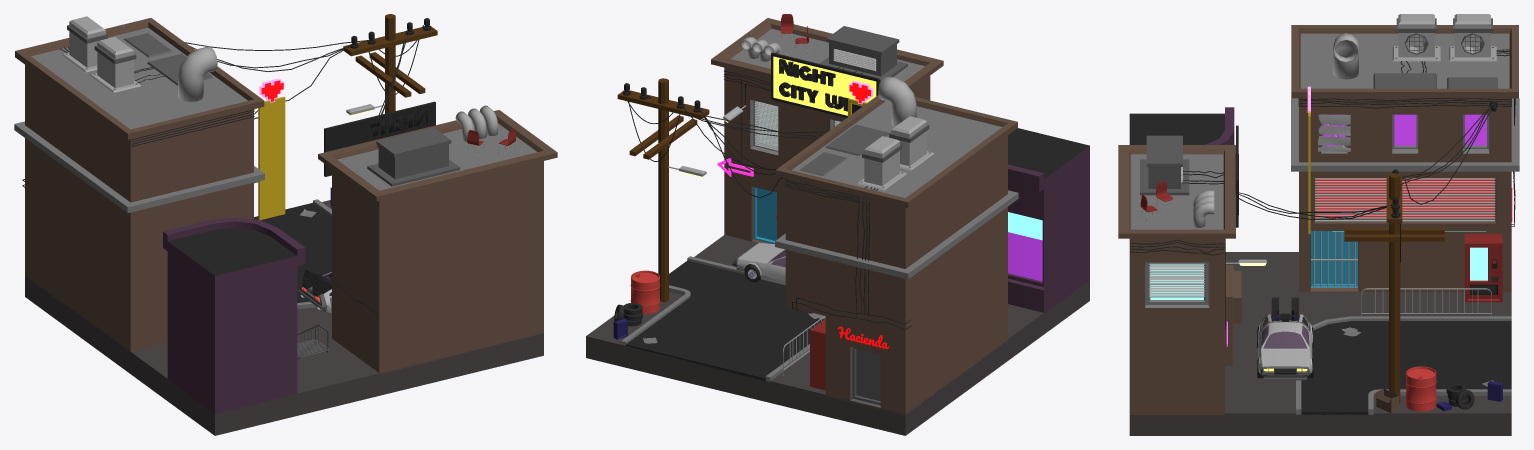
The model's file is diorama_of_cyberpunk_city.glb.
The picture shows the model from 3 angles, left to right: view 1: azimuth 30°, elevation 25°; view 2: azimuth 150°, elevation 25°; view 3: azimuth 270°, elevation 25°; orthographic projection. The views are drawn at different scales.
Visible parts, largest first — view 1: Cube.001_1, Cube_4, Cube.002_5, Plane_0, Cube.006_24, Plane.011_34, Plane.001_2, Cylinder_9, Plane.012_36, Vert.010_42, Cube.005_19, Cube.004_16 (+3 smaller); view 2: Cube.001_1, Cube_4, Plane_0, Cube.002_5, Plane.001_2, Cylinder_9, Vert.010_42, Plane.012_36, Cube.006_24, Cube.004_16, car.008_45, Cube.005_19 (+8 smaller); view 3: Cube.001_1, Cube_4, Plane_0, Plane.001_2, Vert.008_30, Cylinder_9, Vert.010_42, car.008_45, Cube.002_5, Cube.022_47, Cube.006_24, Vert.007_28 (+11 smaller).
Boxes of the visible parts, x1,y1,x2,y2 form: Cube.001_1: (14, 18, 264, 351); Cube_4: (318, 110, 557, 374); Cube.002_5: (163, 217, 305, 414); Plane_0: (25, 200, 543, 435); Cube.006_24: (367, 127, 460, 186); Plane.011_34: (254, 96, 285, 220); Plane.001_2: (254, 203, 331, 302); Cylinder_9: (343, 14, 437, 113); Plane.012_36: (324, 101, 435, 176); Vert.010_42: (22, 25, 423, 313); Cube.005_19: (90, 37, 140, 92); Cube.004_16: (62, 16, 108, 72); Cube.001_1: (775, 95, 1018, 415); Cube_4: (711, 18, 943, 243); Plane_0: (586, 235, 1089, 435); Cube.002_5: (1008, 128, 1089, 313); Plane.001_2: (626, 260, 824, 381); Cylinder_9: (617, 78, 709, 302); Vert.010_42: (625, 67, 911, 329); Plane.012_36: (771, 52, 879, 117); Cube.006_24: (819, 26, 907, 82); Cube.004_16: (857, 136, 906, 190); car.008_45: (732, 242, 785, 285); Cube.005_19: (889, 116, 933, 170); Cube.001_1: (1291, 25, 1519, 292); Cube_4: (1118, 145, 1241, 414); Plane_0: (1129, 252, 1511, 435); Plane.001_2: (1301, 321, 1511, 414); Vert.008_30: (1315, 178, 1495, 221); Cylinder_9: (1344, 173, 1444, 402); Vert.010_42: (1130, 49, 1515, 328); car.008_45: (1257, 297, 1313, 380); Cube.002_5: (1129, 107, 1234, 144); Cube.022_47: (1464, 234, 1502, 302); Cube.006_24: (1140, 135, 1189, 195); Vert.007_28: (1149, 263, 1204, 297).
Bounding box in the file's own units: 8.69 × 6.61 × 8.4.
